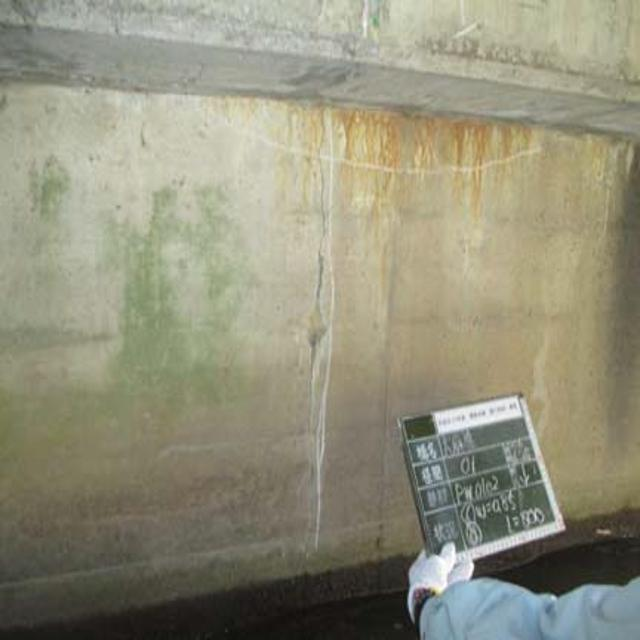crack: (303, 119, 348, 448)
